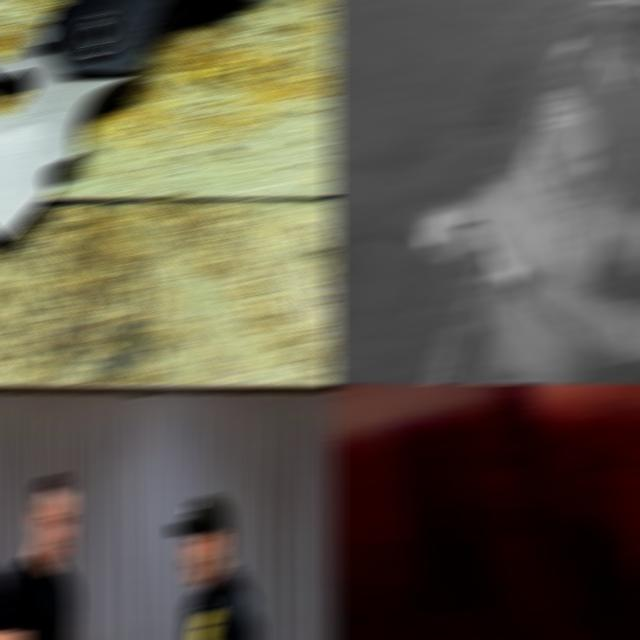Knife_Handle: (328, 384, 640, 508), (420, 207, 488, 245)
